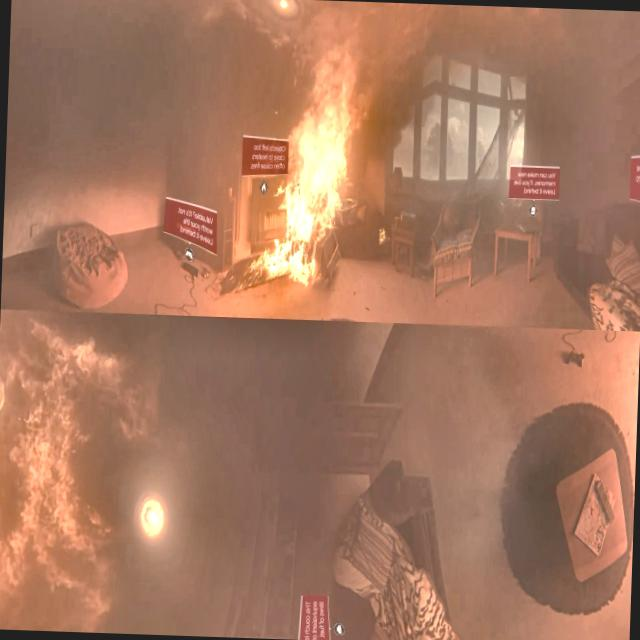fire: (262, 2, 374, 281)
